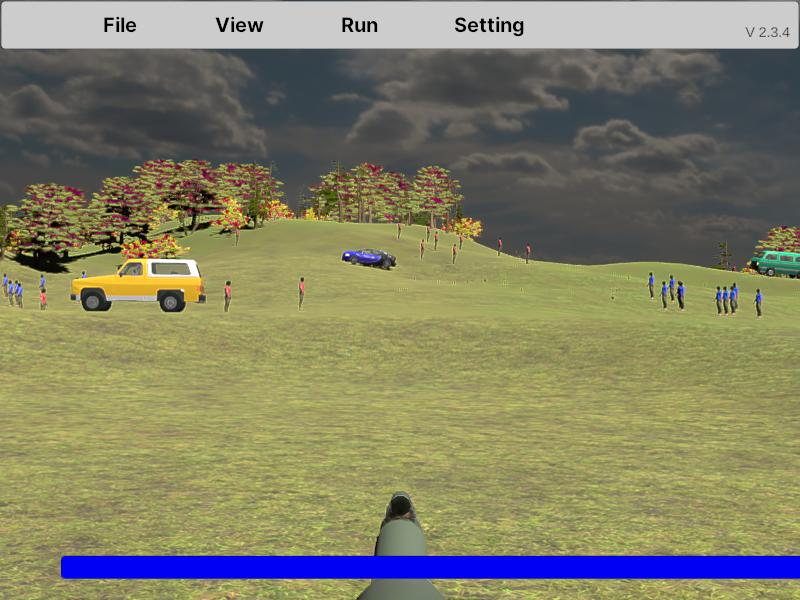car: (69, 257, 205, 314), (749, 251, 800, 280), (341, 247, 396, 269)
